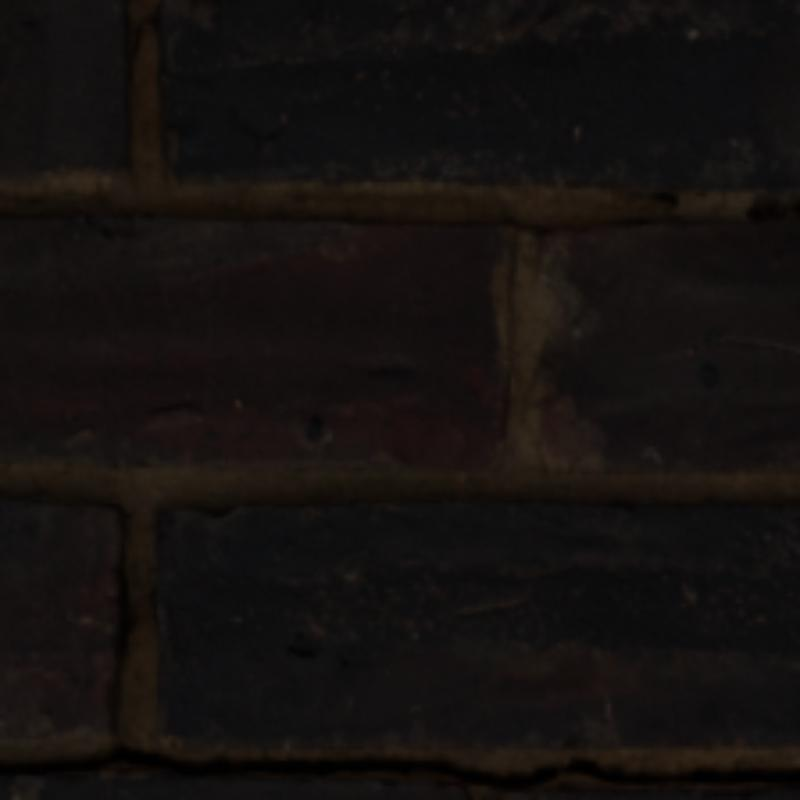pothole: (0, 743, 796, 786)
